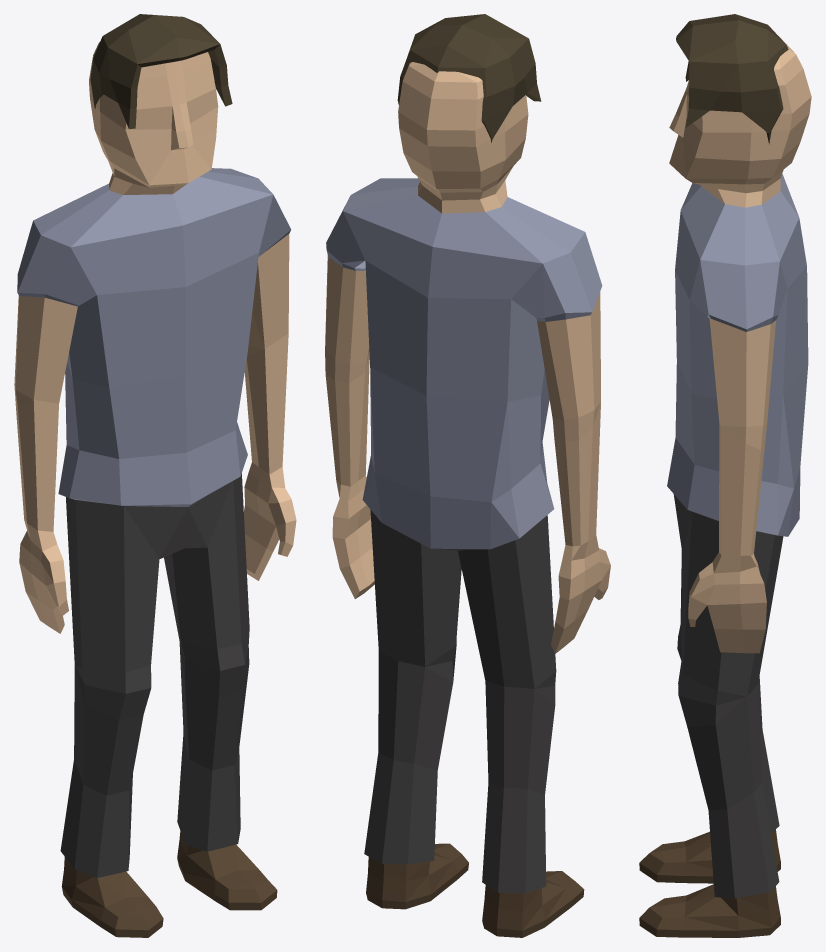
File: man_stand.glb
3 views of the same model, side by side, from view 1: azimuth 30°, elevation 25°; view 2: azimuth 150°, elevation 25°; view 3: azimuth 270°, elevation 25° (orthographic).
Visible parts, largest first — view 1: Human_CylinderMesh_006; view 2: Human_CylinderMesh_006; view 3: Human_CylinderMesh_006.
Boxes of the visible parts, x1,y1,x2,y2 form: Human_CylinderMesh_006: (14, 14, 296, 937); Human_CylinderMesh_006: (325, 14, 610, 937); Human_CylinderMesh_006: (639, 14, 811, 937).
Bounding box in the file's own units: 0.5628 × 1.77 × 0.3144.
